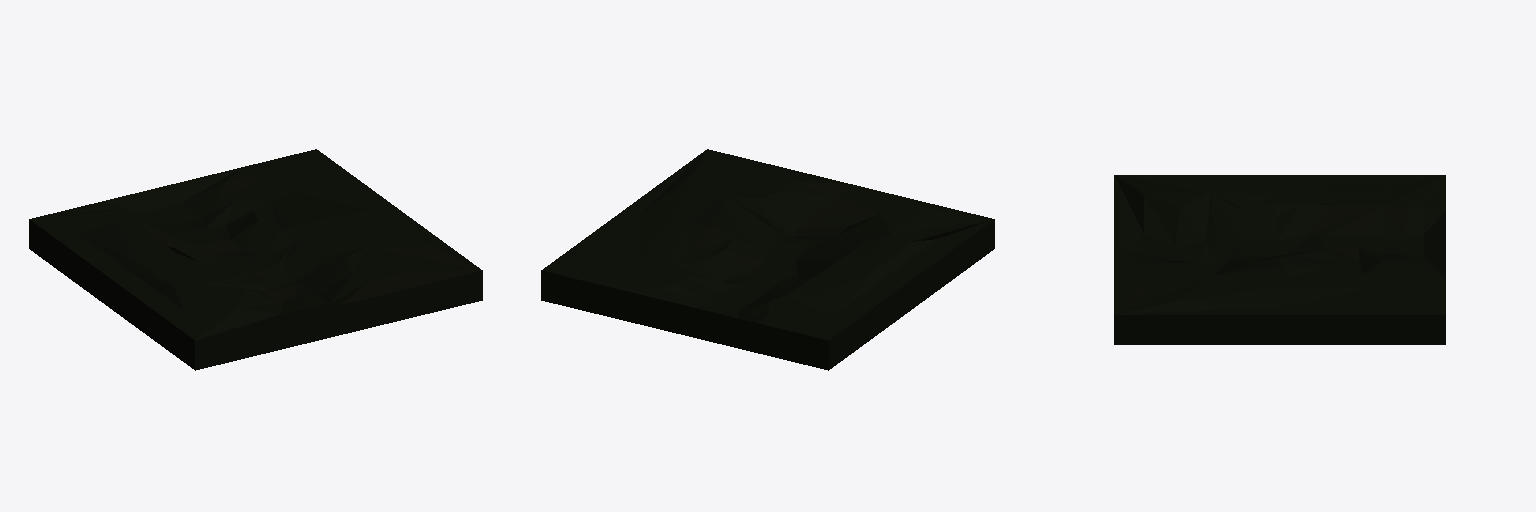
File: DirtPath.obj
3 views of the same model, side by side, from view 1: azimuth 30°, elevation 25°; view 2: azimuth 150°, elevation 25°; view 3: azimuth 270°, elevation 25° (orthographic).
Parts seen in each view (by area): view 1: Cube; view 2: Cube; view 3: Cube.
Part boxes in pixels (x1,y1,x2,y2): Cube: (29,149,482,370); Cube: (541,149,994,370); Cube: (1114,175,1445,344).
Size of the model in its own units: 2 by 0.2513 by 2.